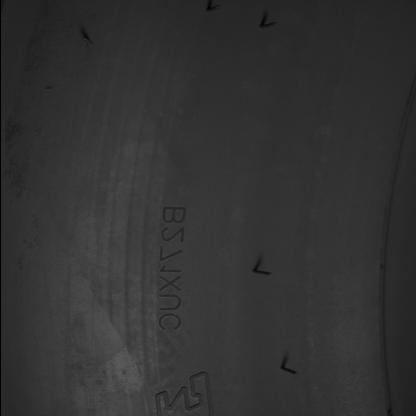ocr: (155, 205, 189, 332)
